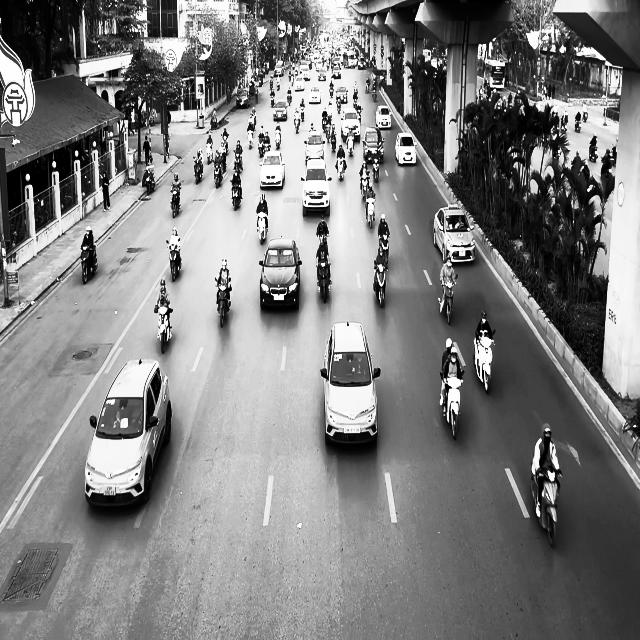bus: (483, 59, 506, 90)
car: (84, 358, 172, 508), (320, 321, 380, 446), (259, 238, 302, 310), (432, 203, 476, 264), (300, 157, 332, 216), (259, 150, 285, 189), (362, 127, 384, 162), (340, 108, 361, 142), (395, 132, 416, 165), (304, 130, 324, 164), (375, 105, 392, 128), (273, 99, 287, 121), (236, 88, 250, 108), (308, 85, 322, 104)
motorbike: (530, 466, 562, 548), (439, 367, 465, 440), (473, 329, 495, 394), (438, 275, 458, 325), (154, 303, 173, 354), (316, 254, 332, 303), (215, 279, 231, 327), (80, 242, 98, 284), (373, 259, 388, 308), (166, 240, 182, 281), (364, 192, 376, 228), (256, 211, 268, 244), (378, 234, 390, 266), (170, 186, 181, 218), (143, 167, 155, 194), (231, 182, 242, 210), (193, 156, 203, 184), (335, 156, 346, 181), (213, 158, 222, 188), (588, 136, 598, 162), (346, 134, 354, 156), (205, 144, 212, 164), (274, 130, 281, 150), (294, 114, 301, 134), (574, 117, 582, 132), (247, 129, 253, 149)
